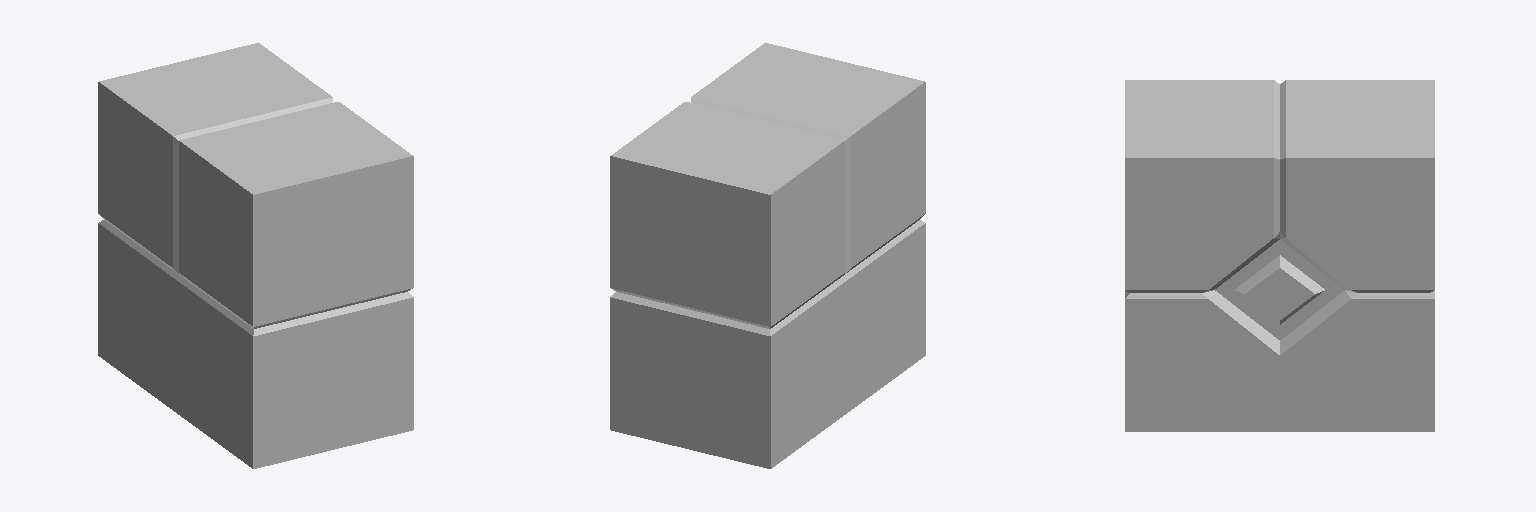
File: WeirdCube.obj
The picture shows the model from 3 angles: view 1: azimuth 30°, elevation 25°; view 2: azimuth 150°, elevation 25°; view 3: azimuth 270°, elevation 25°; orthographic projection.
Parts seen in each view (by area): view 1: Cube_Cube.010; view 2: Cube_Cube.010; view 3: Cube_Cube.010.
Boxes of the visible parts, x1=… form: Cube_Cube.010: x1=98, y1=43, x2=413, y2=468; Cube_Cube.010: x1=610, y1=43, x2=925, y2=468; Cube_Cube.010: x1=1125, y1=80, x2=1434, y2=431.
Size of the model in its own units: 0.9133 by 1.5 by 1.53.